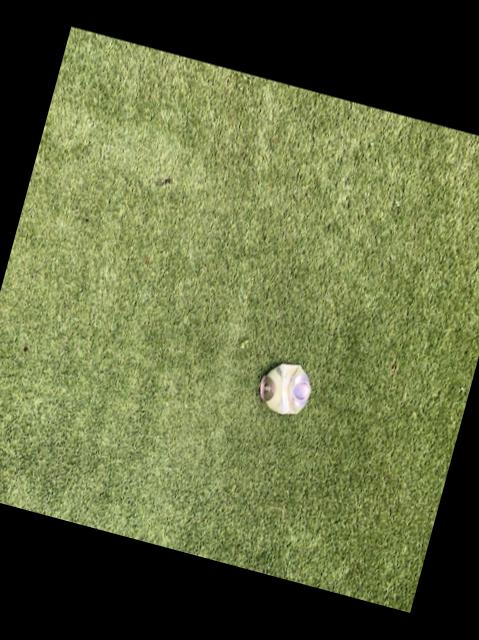metal: (258, 366, 309, 415)
